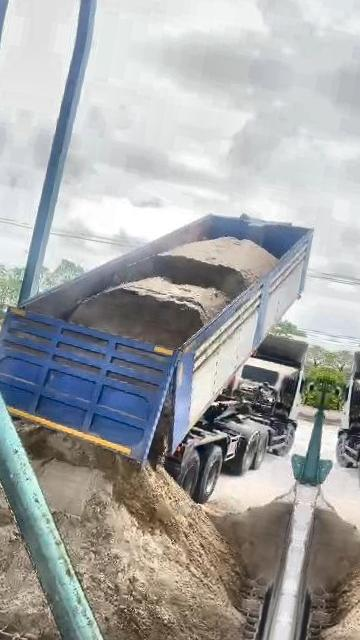sand: (21, 428, 243, 640), (69, 237, 277, 348), (205, 493, 293, 640), (0, 436, 59, 640), (150, 397, 170, 462)
